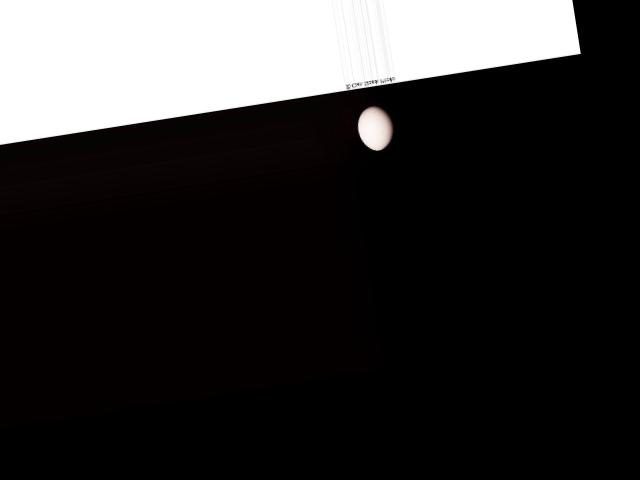egg: (355, 102, 396, 152)
